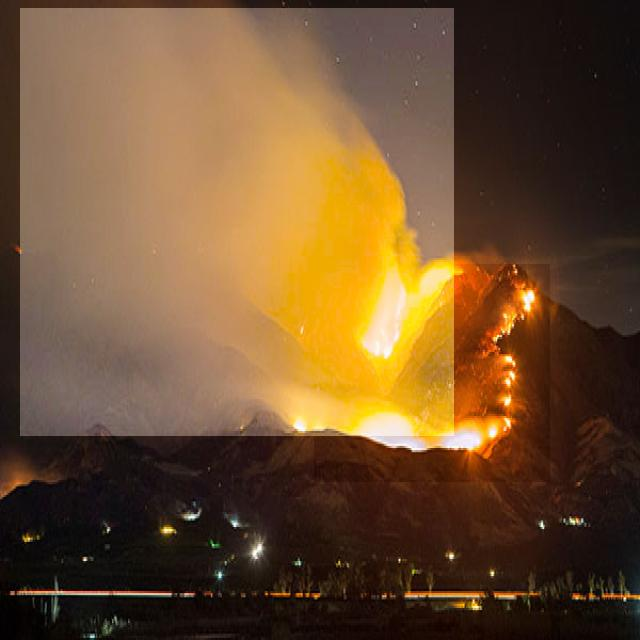Fire: (314, 264, 550, 482)
Smoke: (20, 8, 454, 436)
